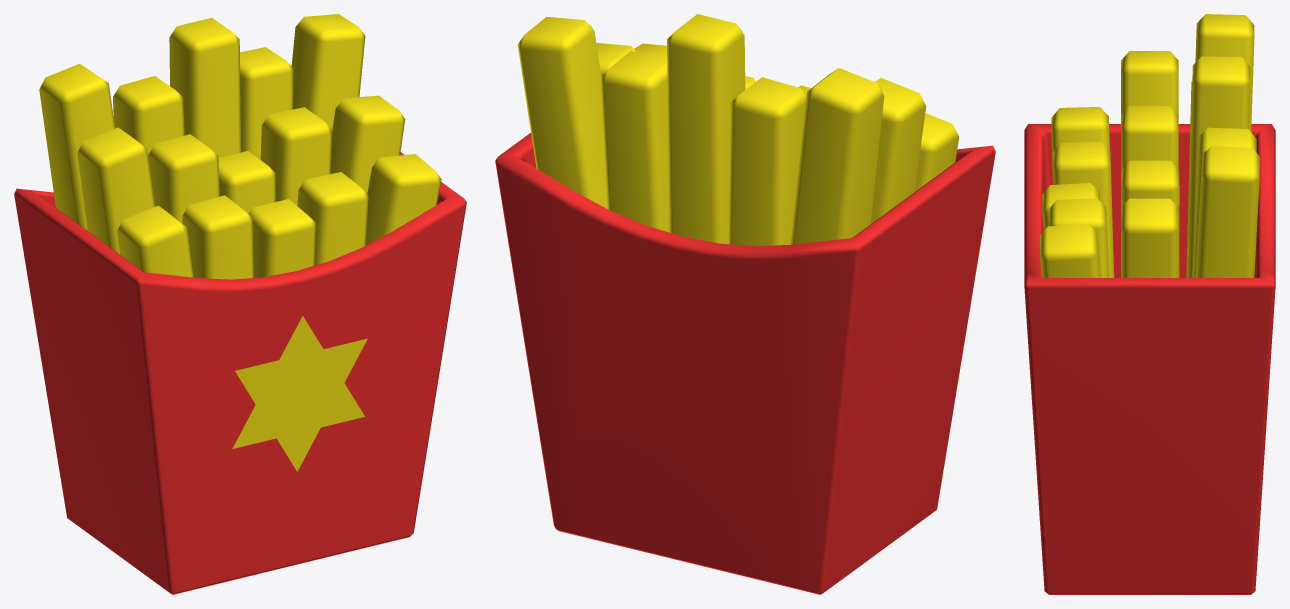
File: Store_2_French_Fries_1.glb
3 views of the same model, side by side, from view 1: azimuth 30°, elevation 25°; view 2: azimuth 150°, elevation 25°; view 3: azimuth 270°, elevation 25° (orthographic). The views are drawn at different scales.
Parts seen in each view (by area): view 1: Store_2_French_Fries_1; view 2: Store_2_French_Fries_1; view 3: Store_2_French_Fries_1.
Part boxes in pixels (bbox=[...]): Store_2_French_Fries_1: bbox=[14, 14, 466, 594]; Store_2_French_Fries_1: bbox=[495, 14, 995, 594]; Store_2_French_Fries_1: bbox=[1024, 14, 1275, 594].
Size of the model in its own units: 1.36 by 1.86 by 0.8941.
1 material, 1 textured.
